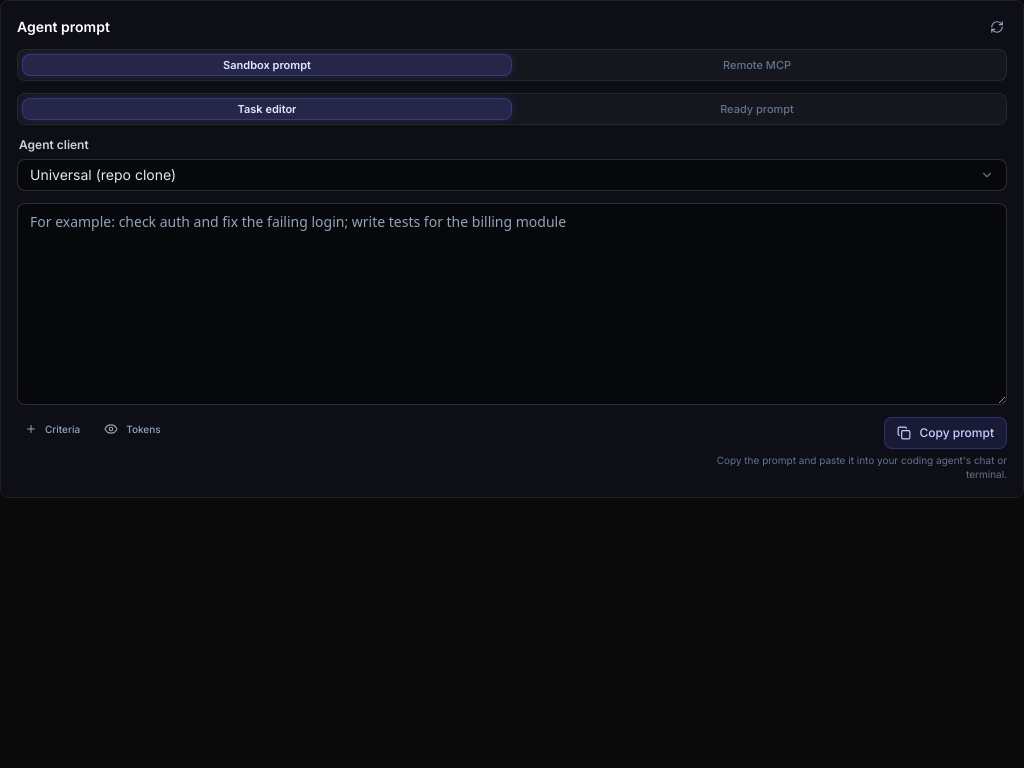
Test: DevboxPrompt editor layout › opens the acceptance accordion as a bordered panel with rows=3 and closes it
Expected: the button with test id "devbox-prompt-copy" is shown, [884,417,1007,449]
What coordinates should you click on to do the following:
click the button with test id "devbox-prompt-acceptance-toggle"
I would click on:
 (53, 429)
Its box is [17,417,88,441].
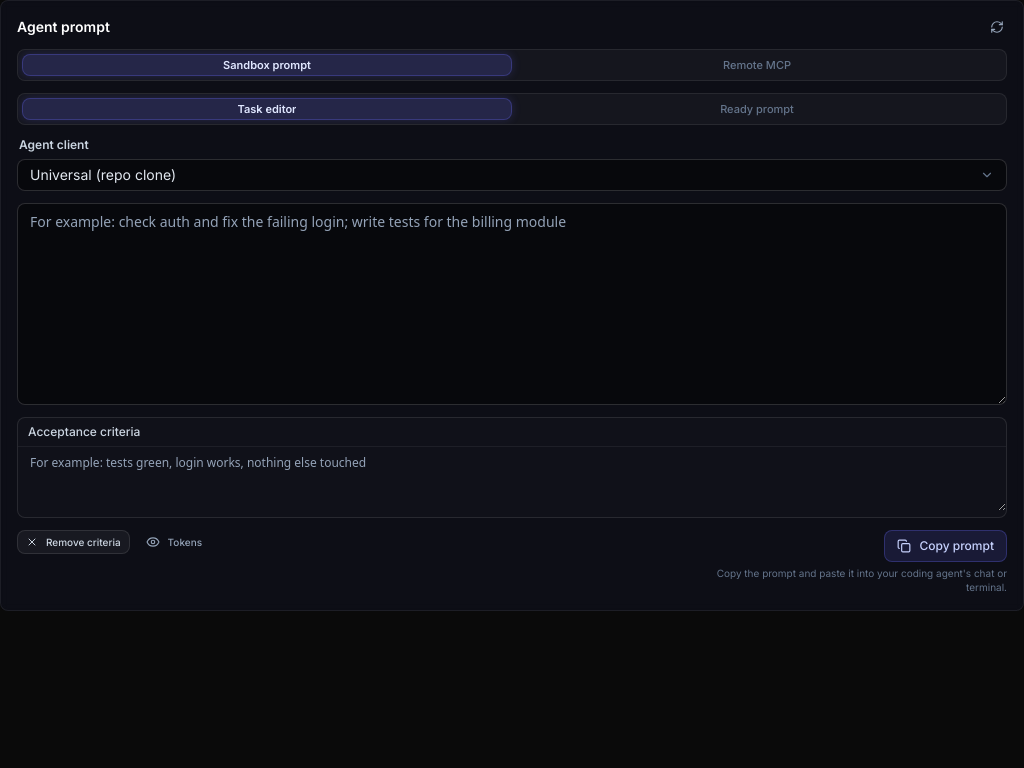
Now the element with test id "devbox-prompt-acceptance-panel" is shown, box [17,417,1007,518]
What coordinates should you click on to do the following:
click the button with test id "devbox-prompt-acceptance-toggle"
I would click on:
 (73, 542)
Its box is [17,530,130,554].
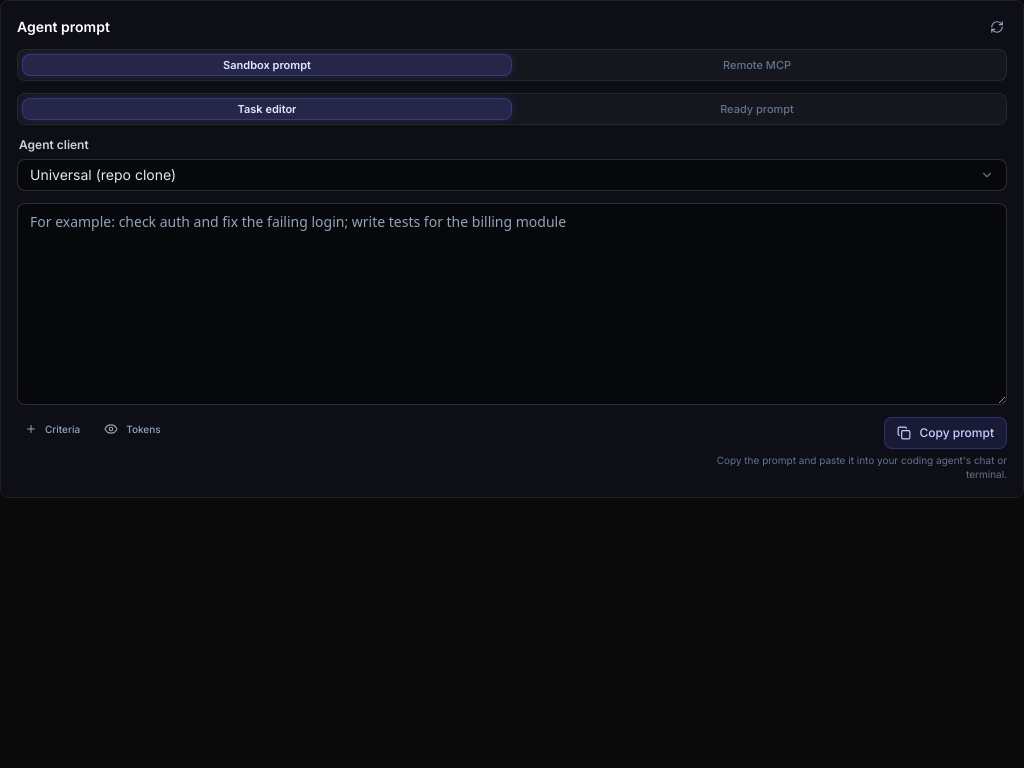
Now the element with test id "devbox-prompt-acceptance-panel" is gone
